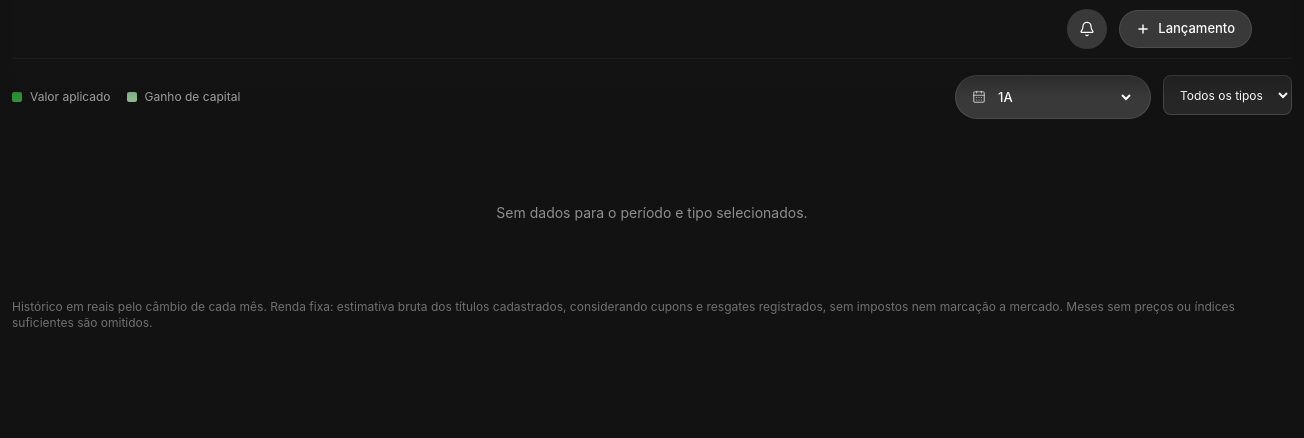
Test case: filtra período no gráfico sem duplicar no topo, aplica tipo e valida intervalo personalizado
The image size is (1304, 438).
Select "2A" in the dropdown named "Período da evolução do patrimônio": (1064,97) [994, 88, 1134, 106]
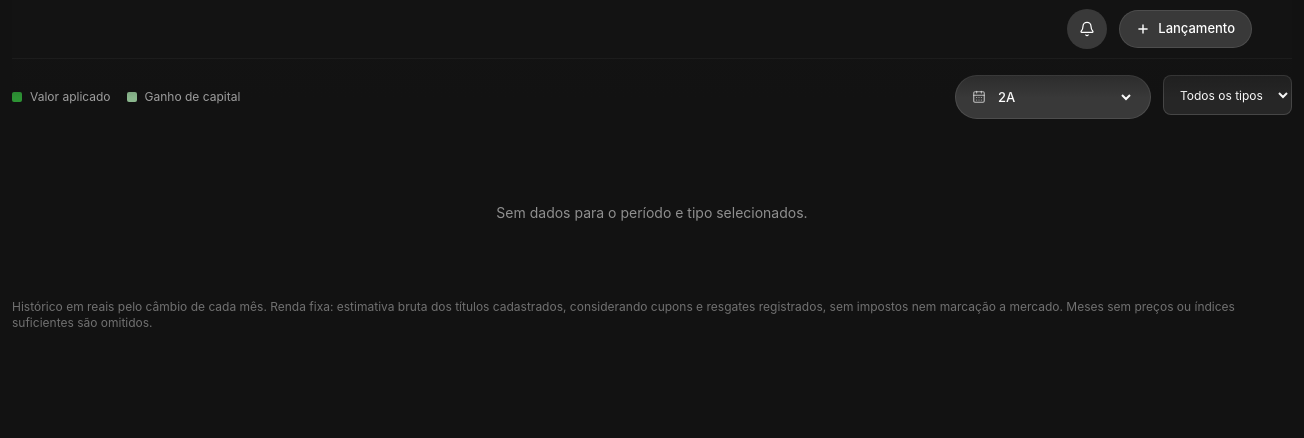
Select "FIIs" in the dropdown named "Tipo de ativo do gráfico": (1228,95) [1163, 75, 1292, 115]
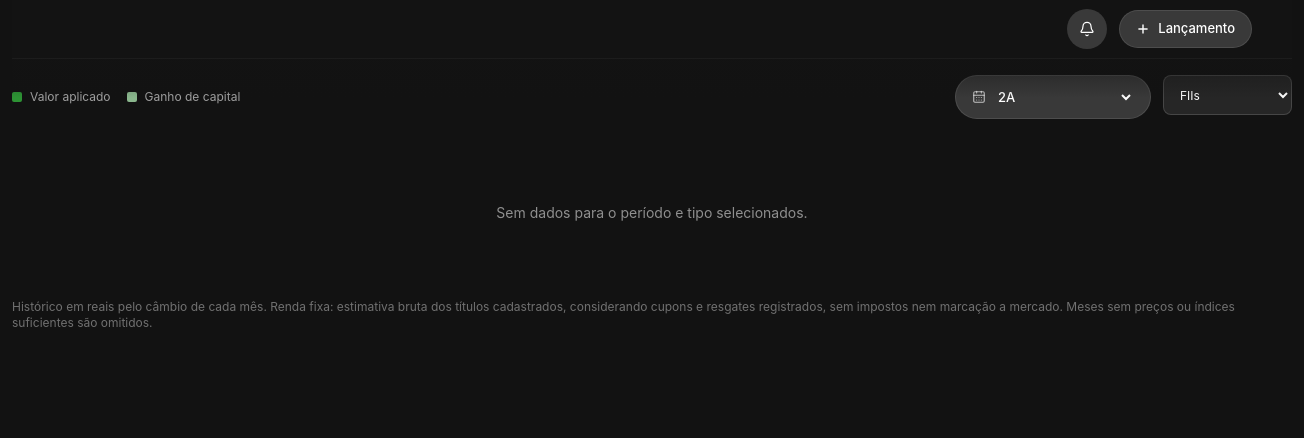
Select "Data personalizada" in the dropdown named "Período da evolução do patrimônio": (1064,97) [994, 88, 1134, 106]
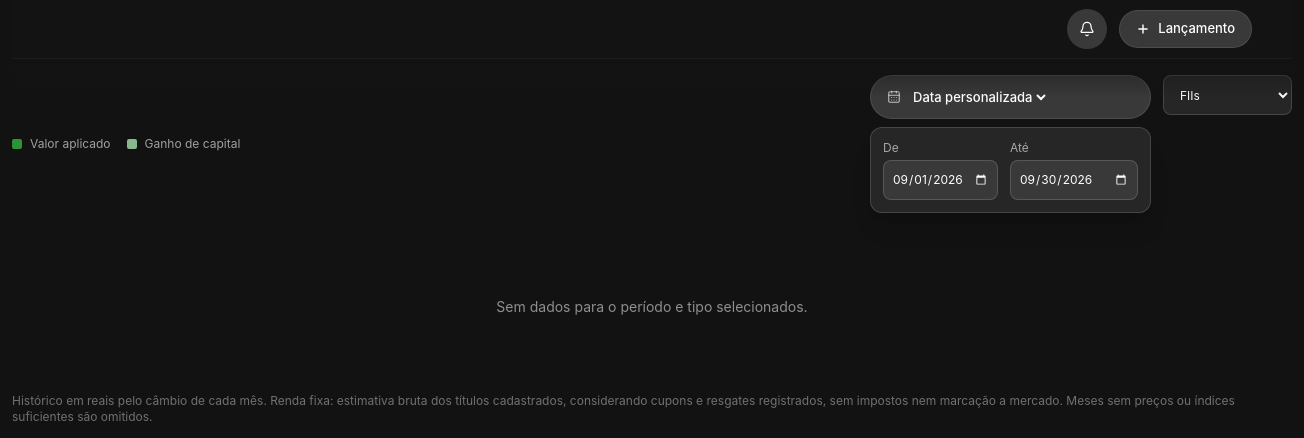
In the date field named "Data inicial do gráfico": (940,180) [883, 160, 998, 200], type "2026-10-01"
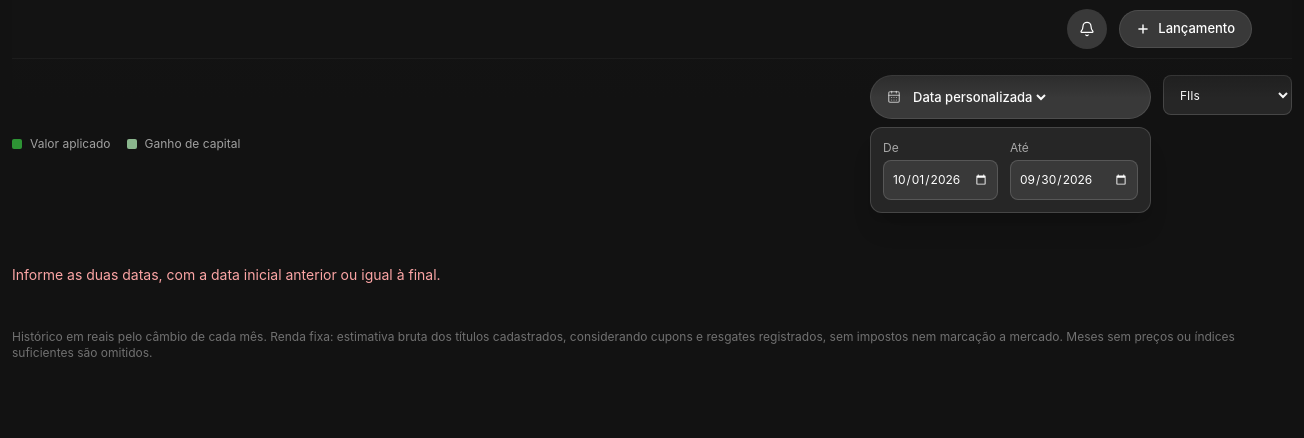
Expected: the message shows "data inicial anterior ou igual à final", [12, 266, 441, 283]
